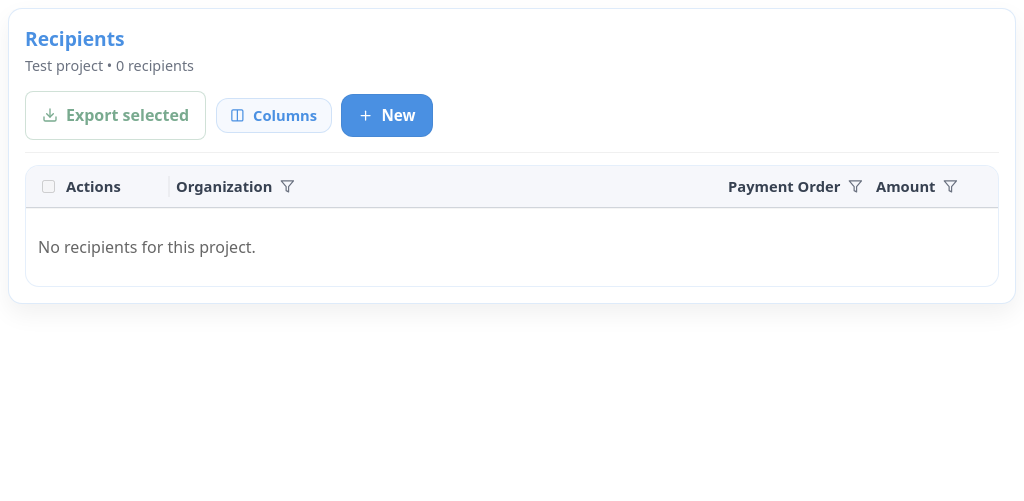
Test case: Recipient amount validation › shows the backend positive-amount error inline and clears it when corrected
This screenshot has width=1024, height=501.
Click the button "New". click: click(387, 115)
box: [341,94,432,136]
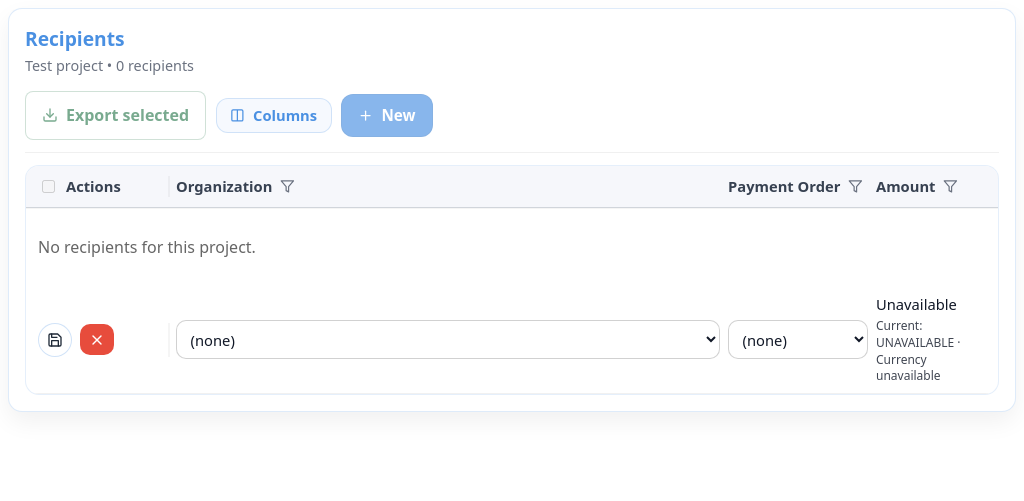
Select "First organization" in the dropdown named "Organization". click: (448, 340)
box: [176,320,720,359]
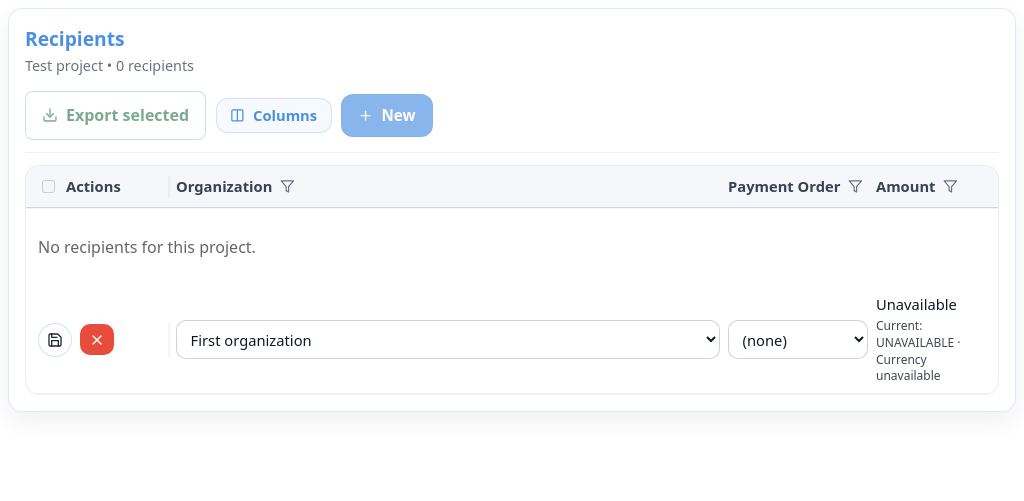
Select "PO#12" in the dropdown named "Payment order". click: (798, 340)
box: [728,320,868,359]
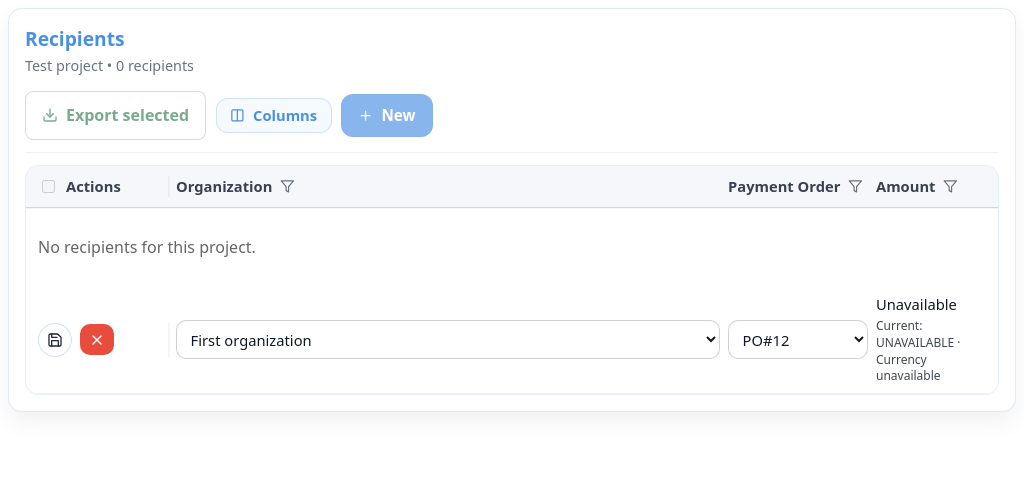
Click the button named "Save". click: click(55, 340)
box: [38,323,72,357]
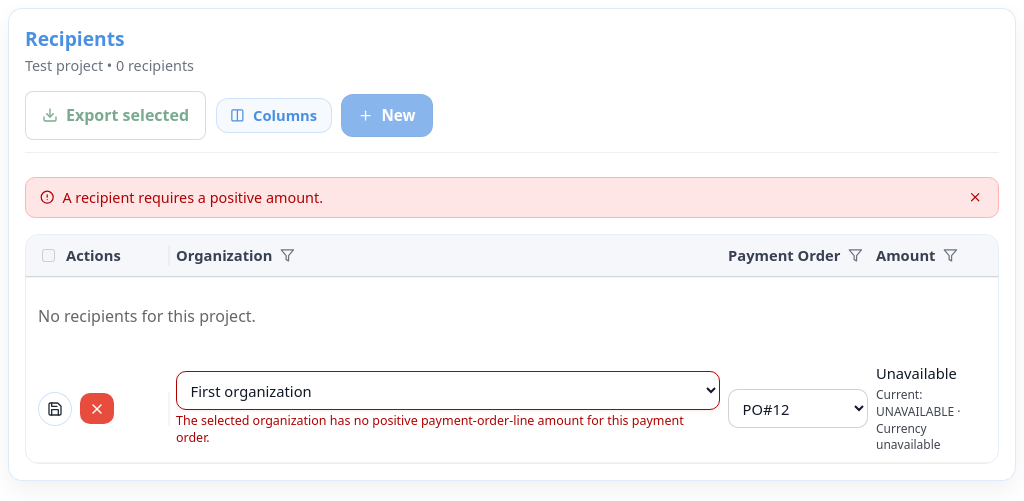
expect the text "The selected organization has no positive payment-order-line amount for this payment order." is shown: met, box [176,412,684,446]
expect the text "A recipient requires a positive amount." is shown: met, box [62,188,323,207]
Select "Second organization" in the dropdown named "Organization". click: (448, 391)
box: [176,371,720,410]
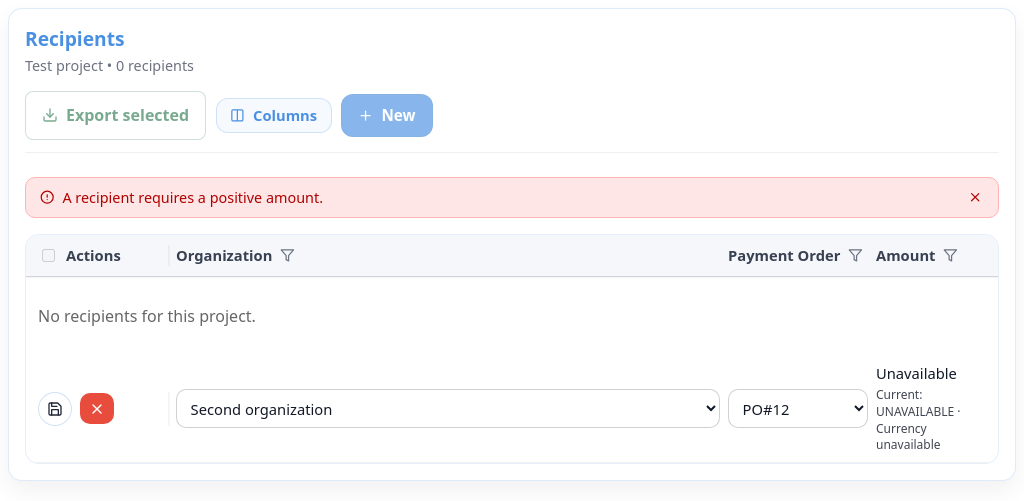
expect the text "The selected organization has no positive payment-order-line amount for this payment order." is gone: met
